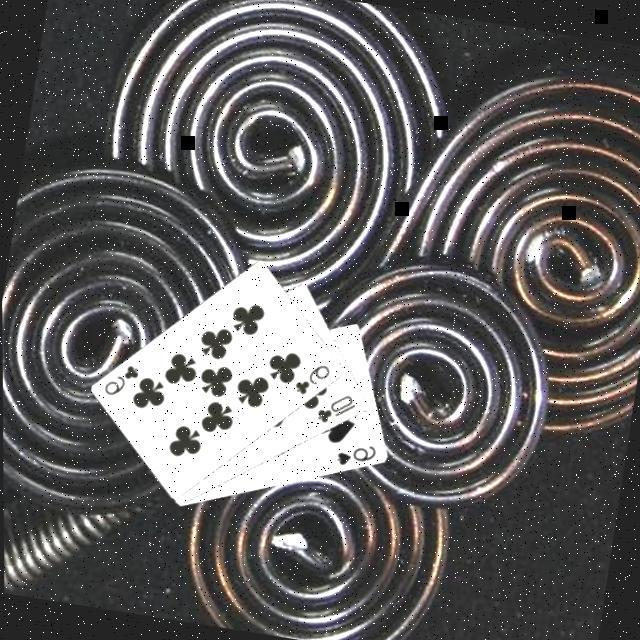10C: (310, 386, 360, 430)
6S: (330, 436, 378, 472)
9C: (288, 356, 332, 401), (97, 358, 141, 402)
